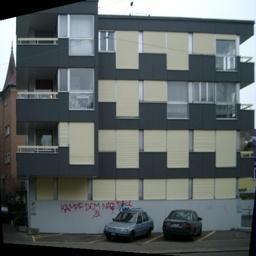building: (13, 0, 254, 232)
